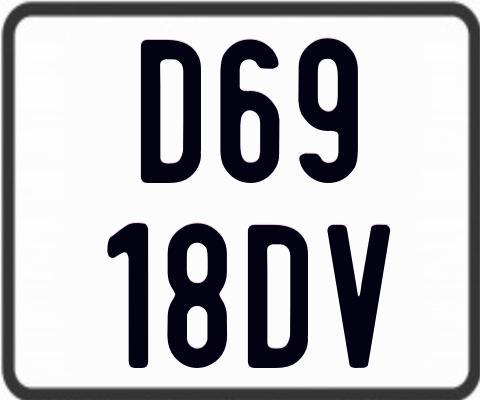1: (104, 223, 149, 374)
6: (220, 37, 284, 181)
8: (164, 222, 228, 372)
9: (298, 35, 359, 185)
D: (245, 225, 305, 373), (140, 40, 200, 185)
V: (324, 222, 389, 366)
